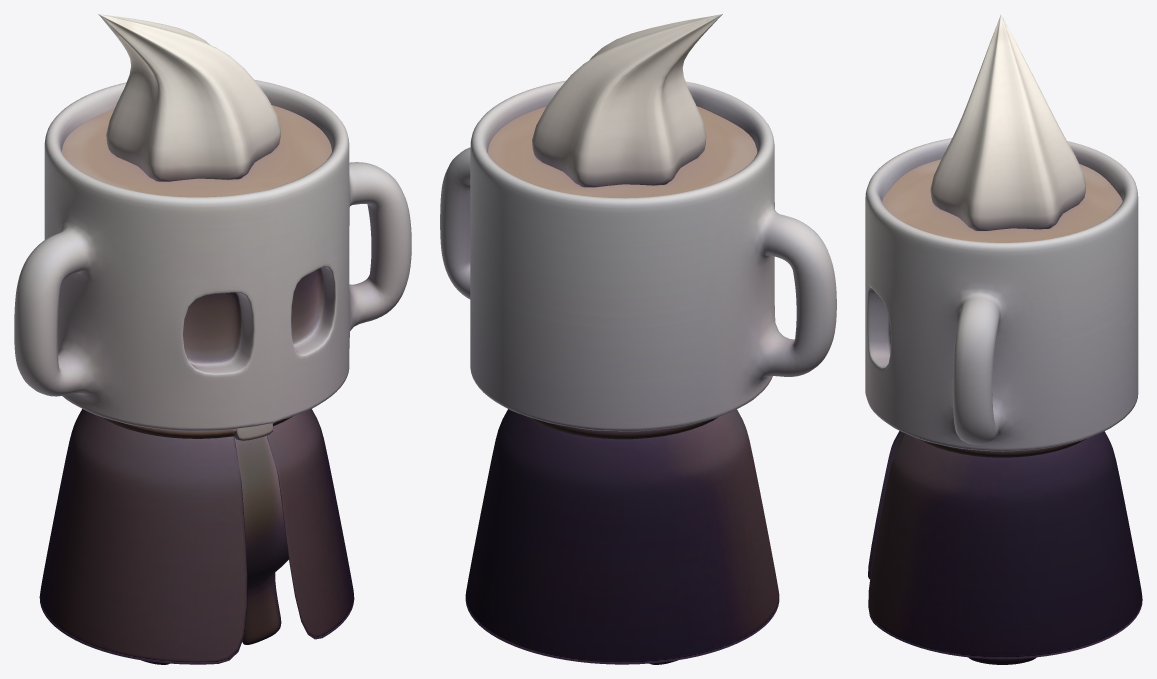
The model's file is cupguy.glb.
3 renders of one model, left to right at view 1: azimuth 30°, elevation 25°; view 2: azimuth 150°, elevation 25°; view 3: azimuth 270°, elevation 25°, orthographic. The views are drawn at different scales.
Visible parts, largest first — view 1: pSphere2, pCylinder3, pDisc2, pDisc1, pCylinder5; view 2: pSphere2, pCylinder3, pDisc2, pDisc1, pCylinder5; view 3: pSphere2, pCylinder3, pDisc2, pDisc1, pCylinder5.
Boxes of the visible parts, x1,y1,x2,y2 form: pSphere2: (14, 79, 411, 664); pCylinder3: (39, 409, 354, 664); pDisc2: (98, 14, 280, 181); pDisc1: (62, 105, 331, 197); pCylinder5: (101, 416, 292, 440); pSphere2: (440, 80, 836, 664); pCylinder3: (465, 409, 779, 664); pDisc2: (532, 14, 722, 187); pDisc1: (488, 106, 757, 197); pCylinder5: (526, 416, 718, 439); pSphere2: (865, 138, 1138, 664); pCylinder3: (868, 431, 1142, 659); pDisc2: (930, 14, 1086, 230); pDisc1: (882, 159, 1122, 242); pCylinder5: (919, 439, 1085, 457).
Size of the model in its own units: 0.7573 by 1.22 by 0.5238.
Materials: 1 (1 with a texture image).
